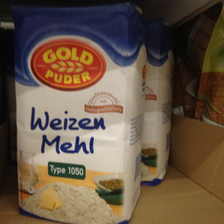flour: (13, 4, 148, 224)
